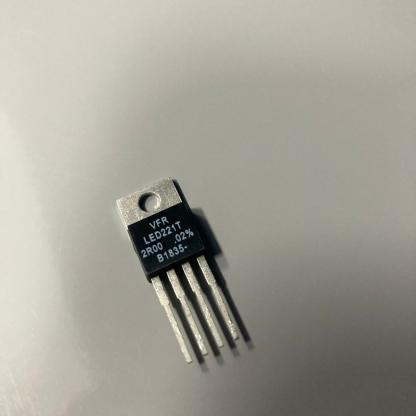SP0000012: (53, 132, 327, 366)
